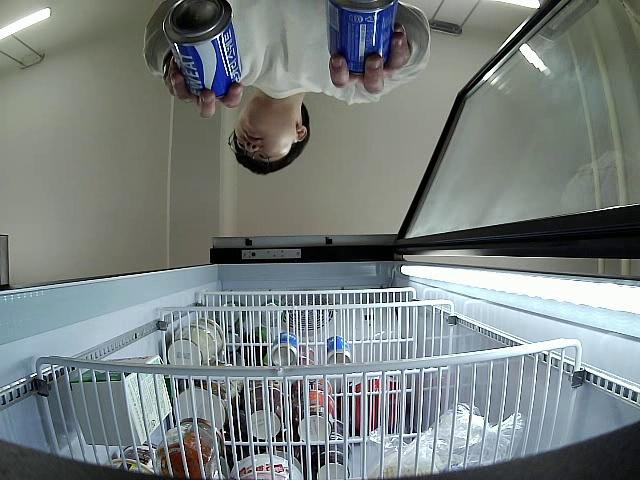00_hand: (328, 23, 410, 94), (162, 63, 244, 122)
13_pocariSweat: (163, 0, 242, 101), (326, 0, 397, 81)
